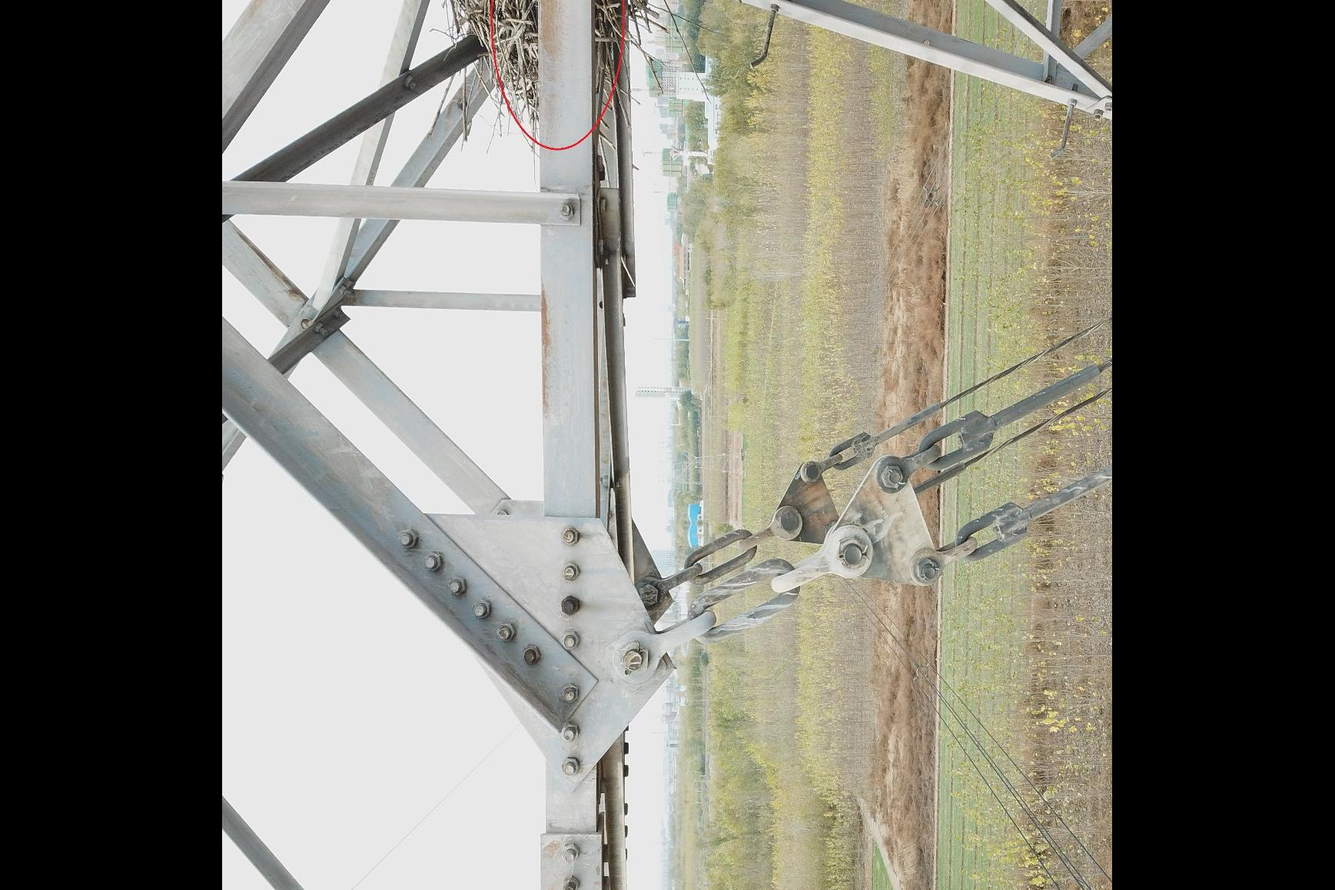nest: (435, 1, 665, 141)
